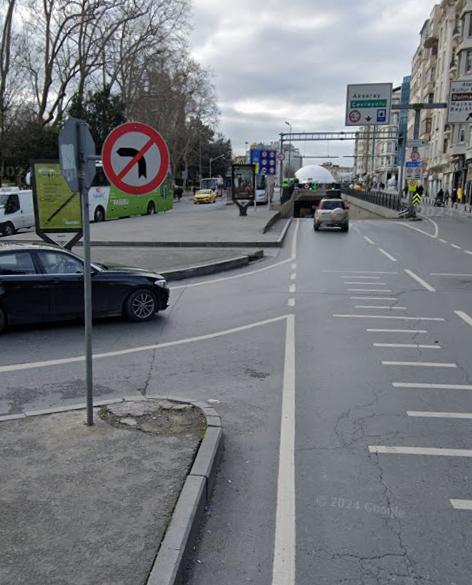leftturnsareforbidden: (102, 122, 169, 191)
